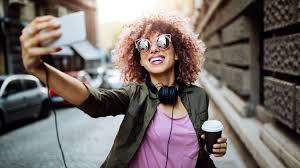face: (138, 33, 176, 75)
